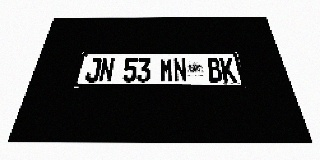3: (137, 58, 151, 82)
5: (123, 58, 138, 82)
B: (206, 58, 223, 82)
J: (84, 58, 102, 82)
K: (219, 58, 237, 82)
M: (160, 58, 173, 82)
N: (98, 58, 115, 82), (173, 58, 187, 82)
